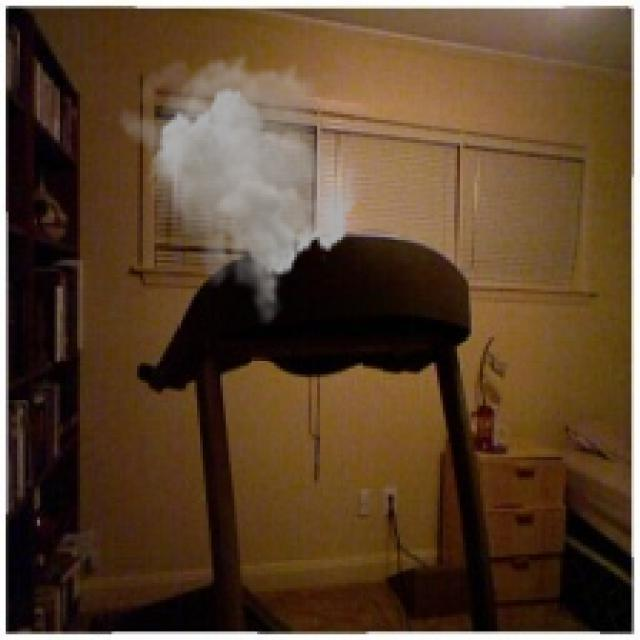Smoke: (117, 52, 360, 328)
